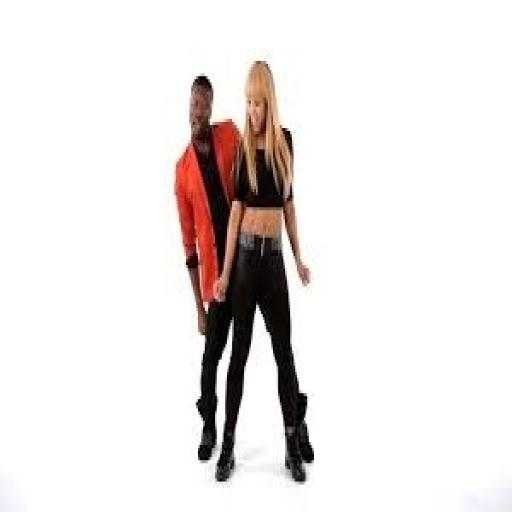dancing: (212, 58, 316, 488)
